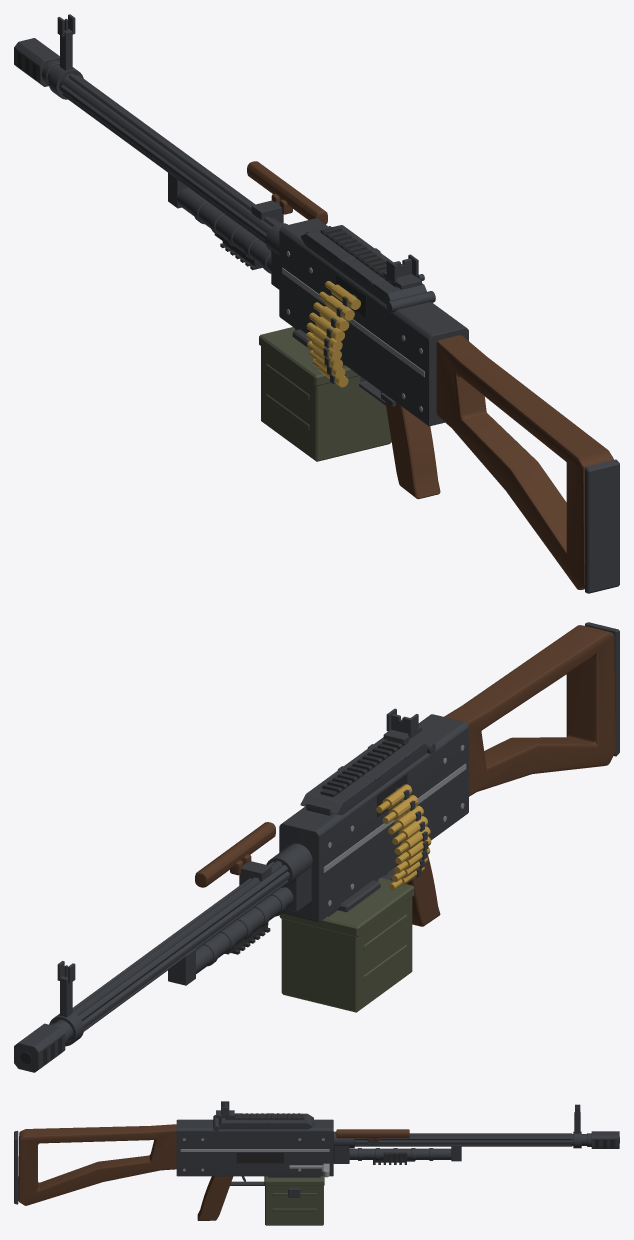
Rendered from wpn_anvil_lmg.glb.
3 renders of one model, top to bottom at view 1: azimuth 30°, elevation 25°; view 2: azimuth 150°, elevation 25°; view 3: azimuth 270°, elevation 25°, orthographic. The views are drawn at different scales.
Parts seen in each view (by area): view 1: Stock, Receiver, AmmoBox, Barrel, ButtPlate, Grip, FeedCover, AmmoBoxBelt, GasCylinder, BarrelHandle, MuzzleBrake, ReceiverDetails (+2 smaller); view 2: Stock, Receiver, AmmoBox, Barrel, GasCylinder, FeedCover, AmmoBoxBelt, BarrelHandle, MuzzleBrake, TopRail, Grip, ReceiverDetails (+2 smaller); view 3: Receiver, Stock, Barrel, AmmoBox, GasCylinder, FeedCover, ReceiverDetails, Grip, BarrelHandle, MuzzleBrake, TopRail, GasRail (+3 smaller).
Boxes of the visible parts, <box> form: Stock: <box>436,335,613,589</box>; Receiver: <box>279,218,468,426</box>; AmmoBox: <box>259,327,391,461</box>; Barrel: <box>47,14,287,254</box>; ButtPlate: <box>585,459,619,593</box>; Grip: <box>385,402,440,499</box>; FeedCover: <box>300,225,435,312</box>; AmmoBoxBelt: <box>306,281,360,387</box>; GasCylinder: <box>168,171,279,289</box>; BarrelHandle: <box>247,161,327,224</box>; MuzzleBrake: <box>14,38,59,86</box>; ReceiverDetails: <box>282,251,424,411</box>; Stock: <box>444,625,615,796</box>; Receiver: <box>279,714,468,921</box>; AmmoBox: <box>279,878,414,1012</box>; Barrel: <box>49,843,312,1046</box>; GasCylinder: <box>168,867,311,985</box>; FeedCover: <box>300,737,435,815</box>; AmmoBoxBelt: <box>376,784,431,890</box>; BarrelHandle: <box>195,822,275,887</box>; MuzzleBrake: <box>14,1023,68,1072</box>; TopRail: <box>320,740,408,797</box>; Grip: <box>392,855,440,926</box>; ReceiverDetails: <box>323,745,466,905</box>; Receiver: <box>176,1119,333,1185</box>; Stock: <box>18,1124,176,1205</box>; Barrel: <box>333,1104,586,1148</box>; AmmoBox: <box>264,1176,324,1225</box>; GasCylinder: <box>333,1145,461,1163</box>; FeedCover: <box>213,1113,313,1131</box>; ReceiverDetails: <box>180,1138,329,1171</box>; Grip: <box>197,1176,233,1220</box>; BarrelHandle: <box>336,1129,409,1140</box>; MuzzleBrake: <box>587,1131,619,1148</box>; TopRail: <box>225,1113,304,1119</box>; GasRail: <box>373,1152,414,1164</box>.
Size of the model in its own units: 0.1178 by 0.2472 by 1.16.
